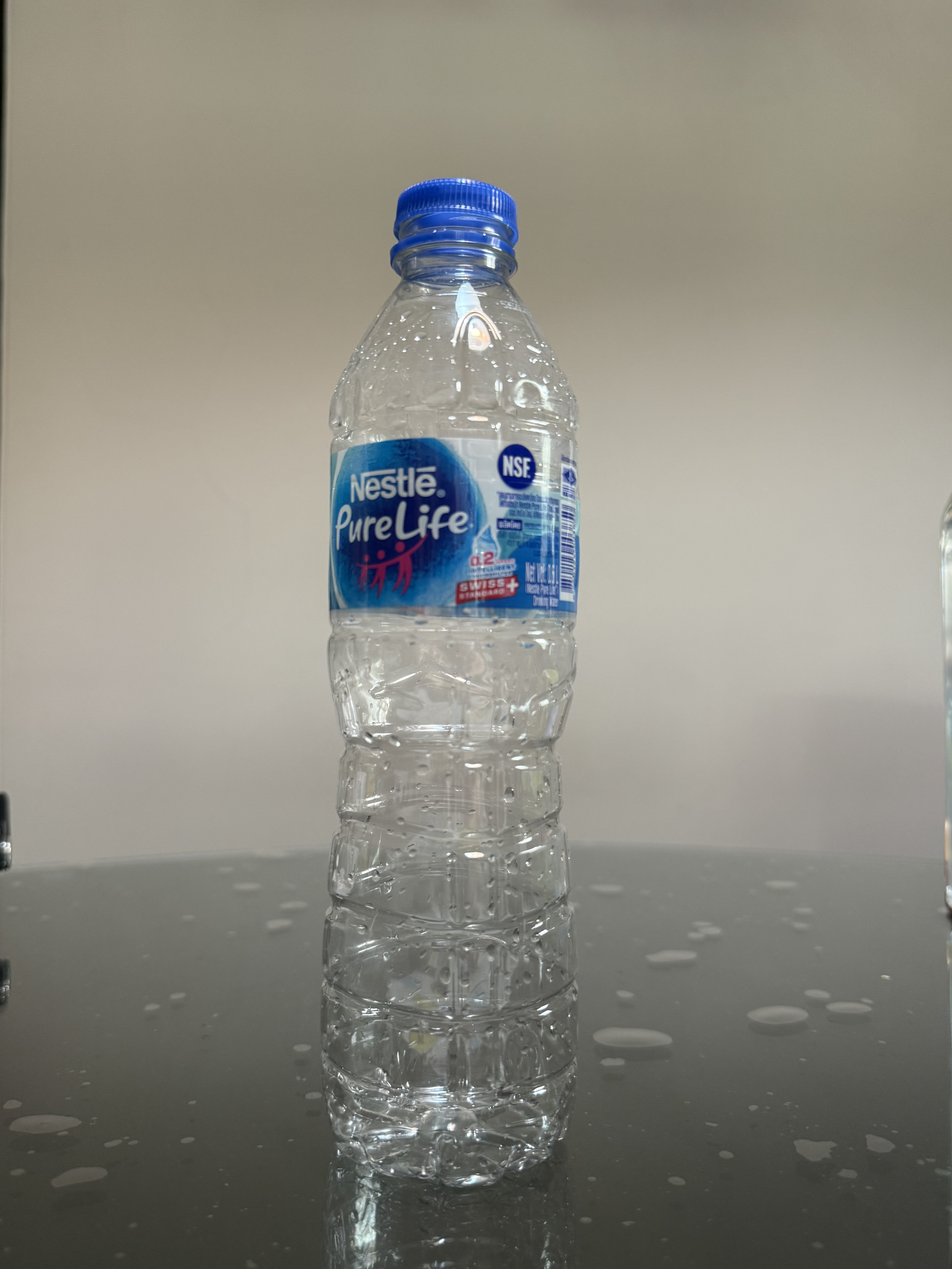half_cap: (387, 173, 521, 280)
